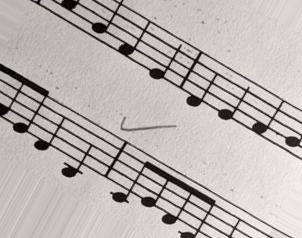D: (184, 42, 219, 111), (32, 90, 66, 154)
E: (217, 63, 251, 129), (150, 23, 182, 88)
F: (251, 82, 286, 149), (120, 5, 151, 70)
G: (87, 1, 125, 55)
